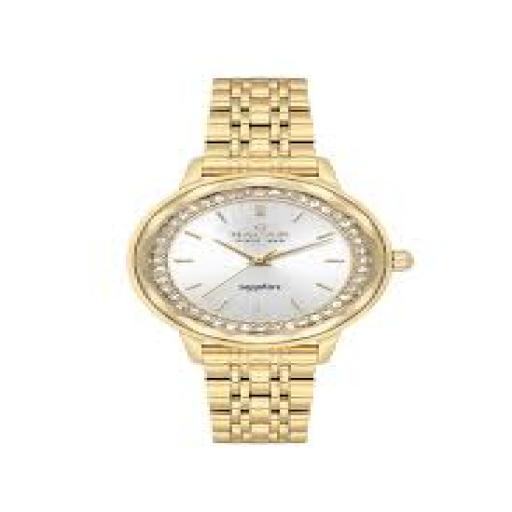KolSaati: (86, 56, 434, 460)
